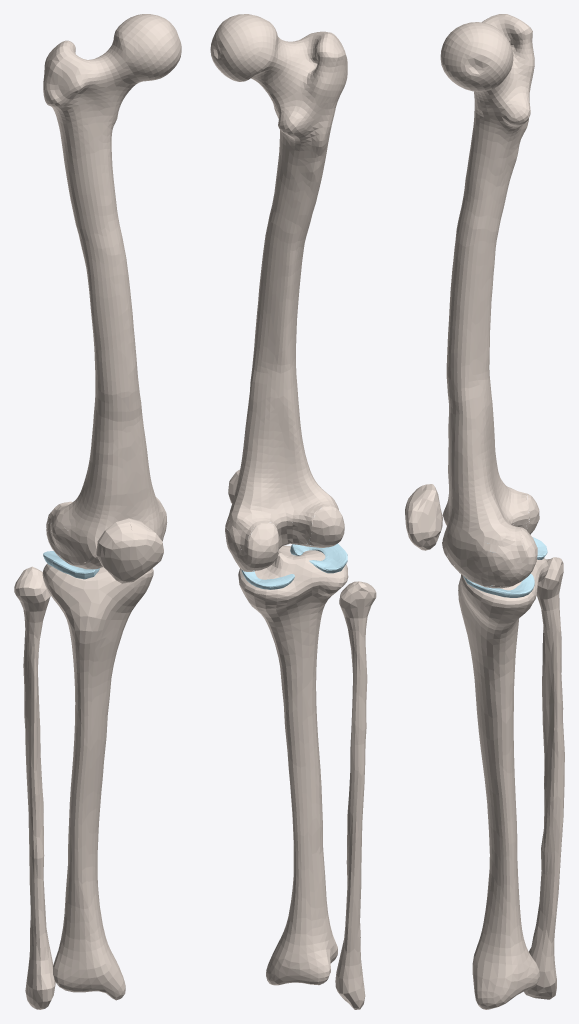
Rendered from VH_F_Knee_R_0.6.glb.
The picture shows the model from 3 angles, left to right: view 1: azimuth 30°, elevation 25°; view 2: azimuth 210°, elevation 25°; view 3: azimuth 270°, elevation 25°; orthographic projection. The views are drawn at different scales.
Parts seen in each view (by area): view 1: VH_F_femur_R, VH_F_tibia_R, VH_F_fibula_R, VH_F_patella_R, VH_F_meniscus_R; view 2: VH_F_femur_R, VH_F_tibia_R, VH_F_fibula_R, VH_F_meniscus_R, VH_F_medial_condyle_of_right_femur_inf, VH_F_lateral_condyle_of_femur_inf_R, VH_F_anterior_cruciate_enthesis_R, VH_F_posterior_cruciate_enthesis_R; view 3: VH_F_femur_R, VH_F_tibia_R, VH_F_fibula_R, VH_F_patella_R, VH_F_meniscus_R, VH_F_medial_perichondular_surface_R, VH_F_medial_condyle_of_right_femur_inf, VH_F_articular_cartilage_of_knee_R, VH_F_medial_epicondylar_enthesis_R.
Boxes of the visible parts, x1,y1,x2,y2 form: VH_F_femur_R: (43,14,181,562); VH_F_tibia_R: (42,562,153,1000); VH_F_fibula_R: (14,566,55,1009); VH_F_patella_R: (96,518,163,583); VH_F_meniscus_R: (43,551,99,579); VH_F_femur_R: (210,14,347,567); VH_F_tibia_R: (238,545,348,985); VH_F_fibula_R: (335,581,376,1009); VH_F_meniscus_R: (241,543,347,589); VH_F_medial_condyle_of_right_femur_inf: (245,524,279,570); VH_F_lateral_condyle_of_femur_inf_R: (310,506,344,547); VH_F_anterior_cruciate_enthesis_R: (292,515,311,544); VH_F_posterior_cruciate_enthesis_R: (275,515,293,546); VH_F_femur_R: (440,14,534,585); VH_F_tibia_R: (458,558,548,1009); VH_F_fibula_R: (524,557,564,999); VH_F_patella_R: (405,484,442,550); VH_F_meniscus_R: (463,537,547,597); VH_F_medial_perichondular_surface_R: (473,550,509,576); VH_F_medial_condyle_of_right_femur_inf: (519,528,537,581); VH_F_articular_cartilage_of_knee_R: (442,493,530,587); VH_F_medial_epicondylar_enthesis_R: (475,542,516,569).
Size of the model in its own units: 0.1016 by 0.772 by 0.1105.
